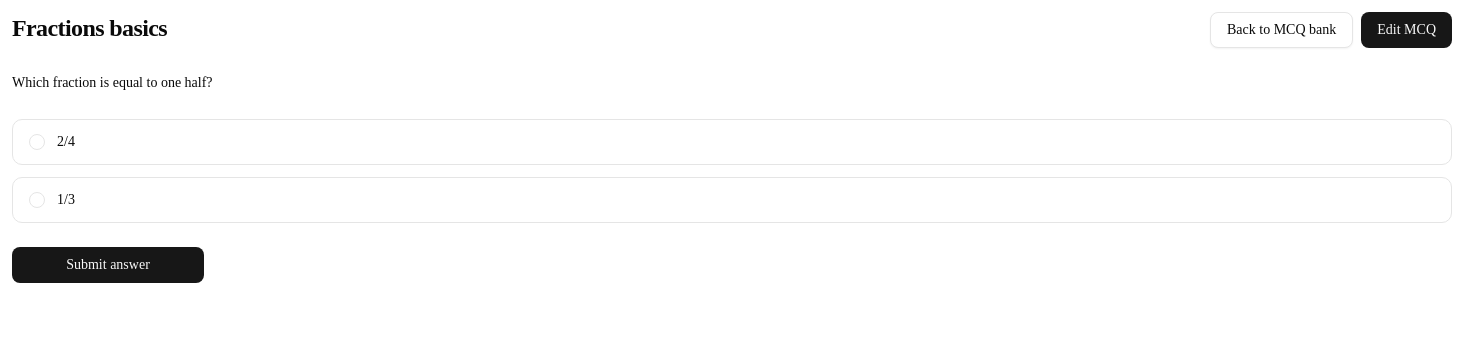
McqPreview › requires a selected choice before submitting
Expected: the heading "Fractions basics" is shown, [12, 12, 167, 44]
Click the button "Submit answer": (108, 265) [12, 247, 204, 283]
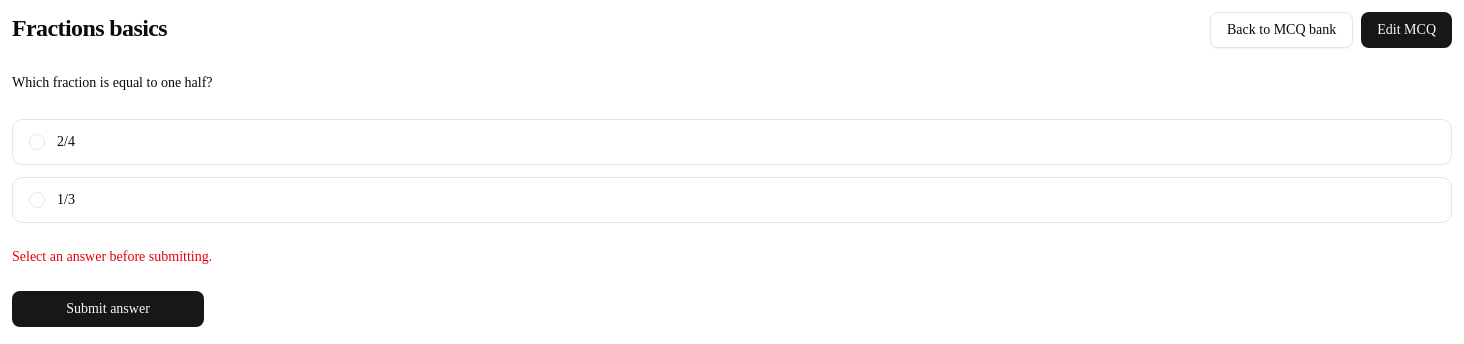
Expected: the text "Select an answer before submitting." is shown, [12, 249, 212, 264]
